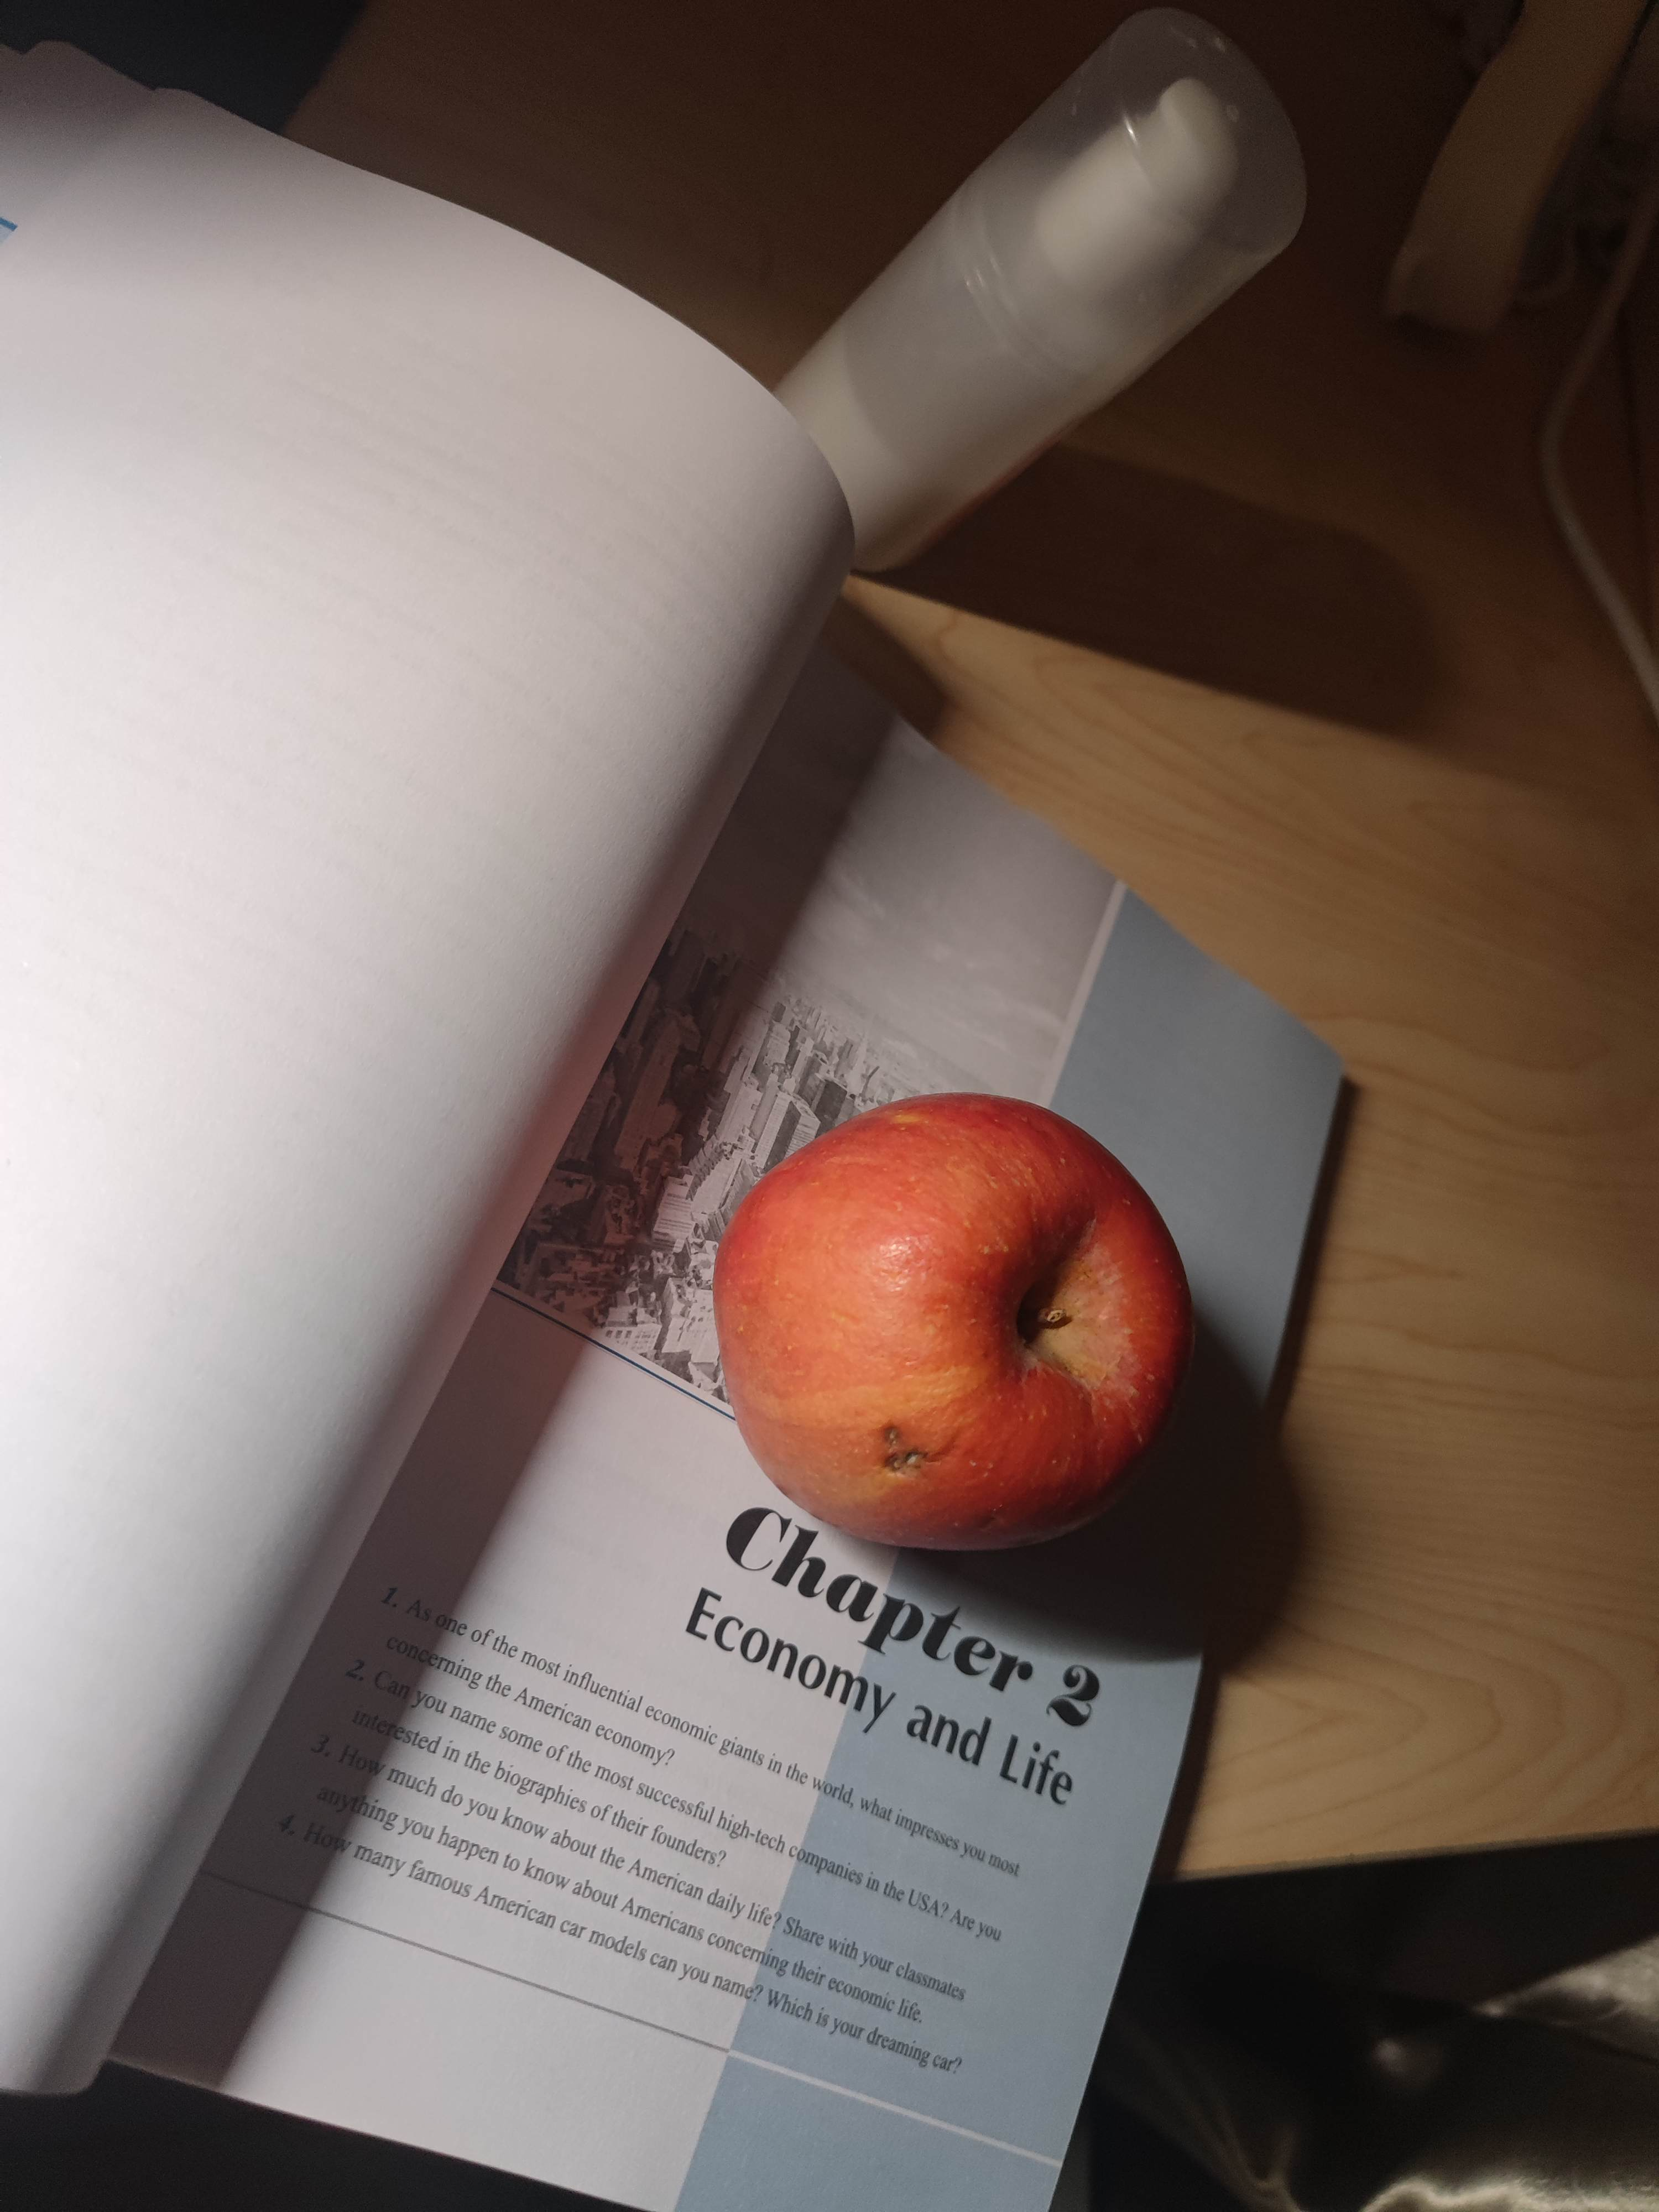apple: (721, 1096, 1194, 1568)
